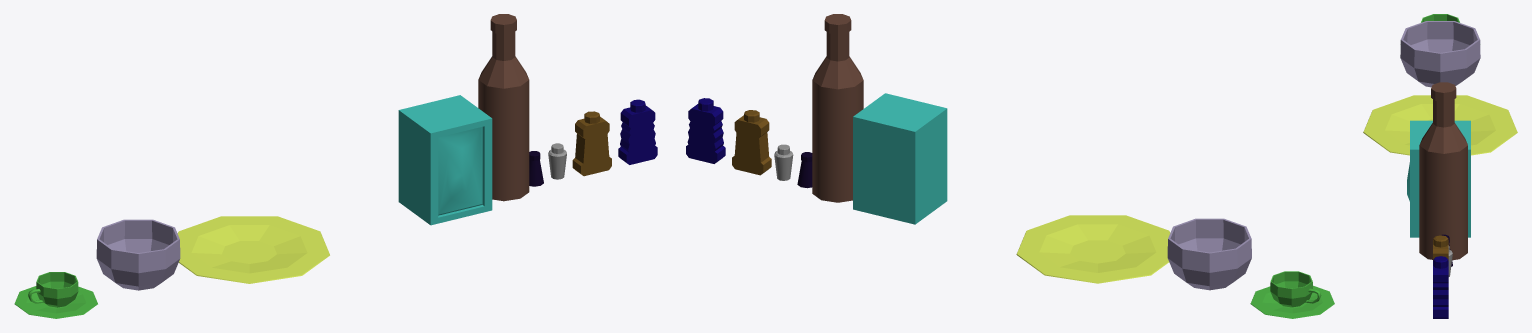
File: petits_objets.FBX
3 renders of one model, left to right at view 1: azimuth 30°, elevation 25°; view 2: azimuth 150°, elevation 25°; view 3: azimuth 270°, elevation 25°, orthographic. The views are drawn at different scales.
Parts seen in each view (by area): view 1: serviette_distributeur, assiette_01, tabasco, soucoupe002, ketchup001, moutarde, assiette_002, soucoupe003, poivre, sel; view 2: serviette_distributeur, assiette_01, tabasco, soucoupe002, ketchup001, moutarde, assiette_002, soucoupe003, poivre, sel; view 3: tabasco, assiette_01, soucoupe002, serviette_distributeur, ketchup001, moutarde, soucoupe003.
Boxes of the visible parts, x1,y1,x2,y2 form: serviette_distributeur: (398, 95, 492, 225); assiette_01: (177, 216, 329, 283); tabasco: (478, 14, 529, 201); soucoupe002: (96, 219, 180, 290); ketchup001: (618, 99, 657, 164); moutarde: (572, 111, 611, 176); assiette_002: (14, 286, 97, 318); soucoupe003: (36, 272, 78, 307); poivre: (548, 143, 566, 179); sel: (529, 151, 543, 186); serviette_distributeur: (853, 93, 947, 224); assiette_01: (1016, 215, 1170, 283); tabasco: (812, 14, 863, 202); soucoupe002: (1167, 218, 1251, 290); ketchup001: (686, 98, 725, 163); moutarde: (732, 110, 771, 175); assiette_002: (1250, 285, 1334, 318); soucoupe003: (1270, 271, 1312, 307); poivre: (774, 144, 793, 180); sel: (797, 152, 812, 188); tabasco: (1419, 82, 1467, 260); assiette_01: (1363, 95, 1517, 155); soucoupe002: (1400, 21, 1480, 87); serviette_distributeur: (1407, 120, 1470, 237); ketchup001: (1433, 256, 1448, 318); moutarde: (1433, 235, 1448, 260); soucoupe003: (1421, 14, 1459, 22).
Size of the model in its own units: 116 by 30.39 by 25.76.
